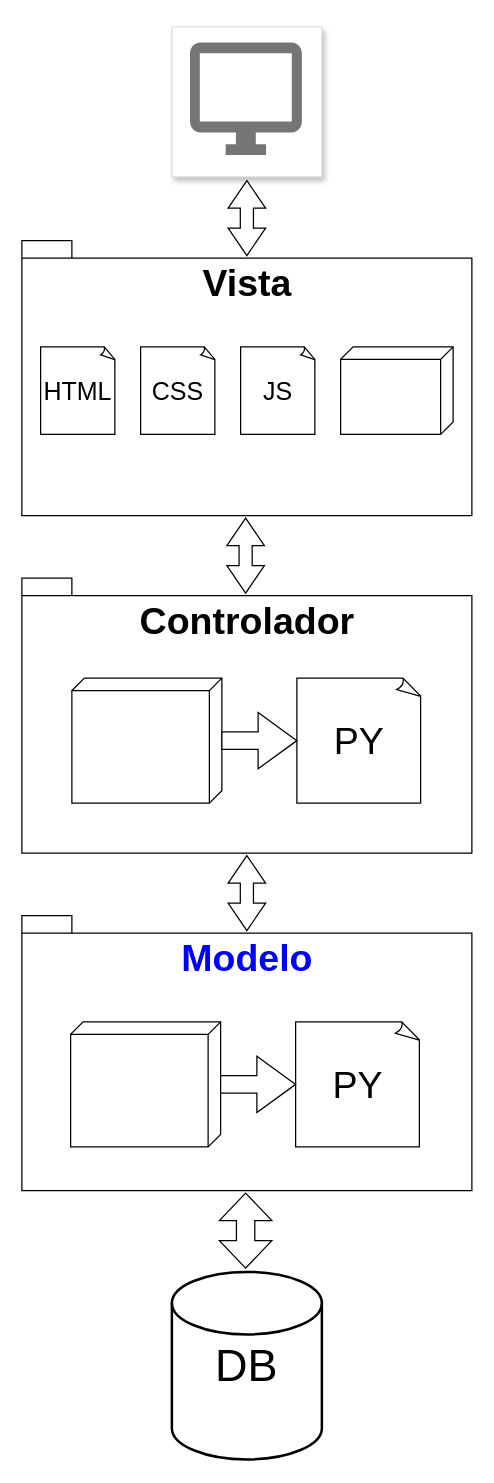
This 494x1483 diagram has some shape labels left out. The shapes that lost their labels are listed below. From the top down, each one's centre as x and y in pixels, then its label:
[247,103]: Desktop
[396,390]: Libs
[146,740]: Python-Flask
[145,1084]: Flask-SQL PyMySql
[245,1230]: Servicios
